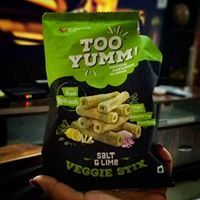plastic: (46, 14, 157, 175)
tooyumm: (68, 29, 137, 70)
wrapper: (41, 11, 171, 184)
